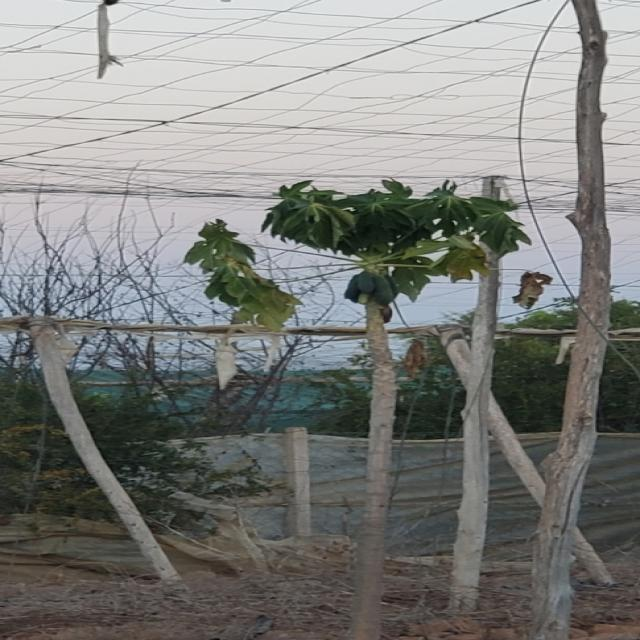Papaya-Tree: (191, 172, 527, 632)
